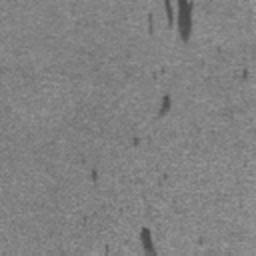Red iron sheet: (163, 0, 193, 41), (140, 227, 156, 256), (159, 95, 170, 116), (147, 10, 152, 35), (132, 137, 140, 147), (242, 68, 248, 79), (105, 244, 110, 256), (91, 170, 97, 179)
